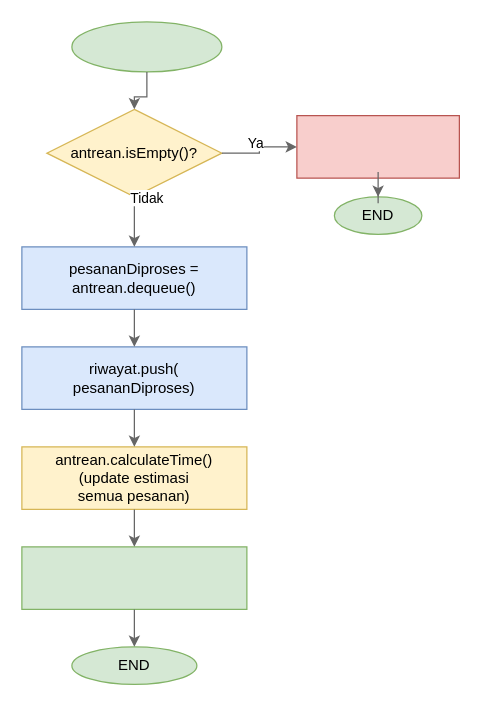
This 481x706 diagram has some shape labels left out. The centre of each missing label's shape, as x and y in pixels:
"START Proses Pesanan" goes at pixel 146 46.
"Tampilkan 'Antrean Kosong'" goes at pixel 377 146.
"Tampilkan 'Pesanan Diproses dan Disimpan ke Riwayat'" goes at pixel 134 577.
